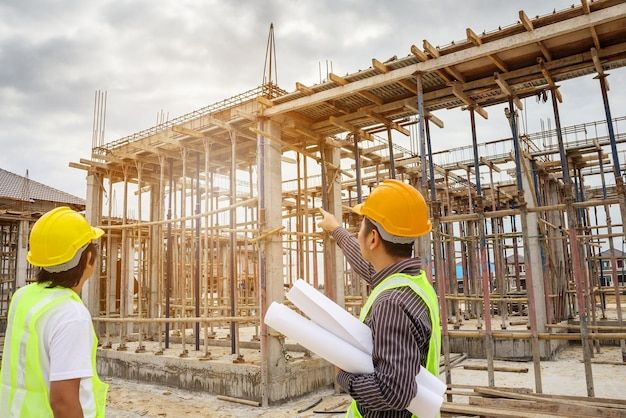hardhat: (351, 177, 444, 257), (19, 209, 94, 267)
person: (292, 162, 458, 414), (9, 196, 101, 415)
safety_vest: (10, 272, 95, 411), (351, 261, 442, 383)
